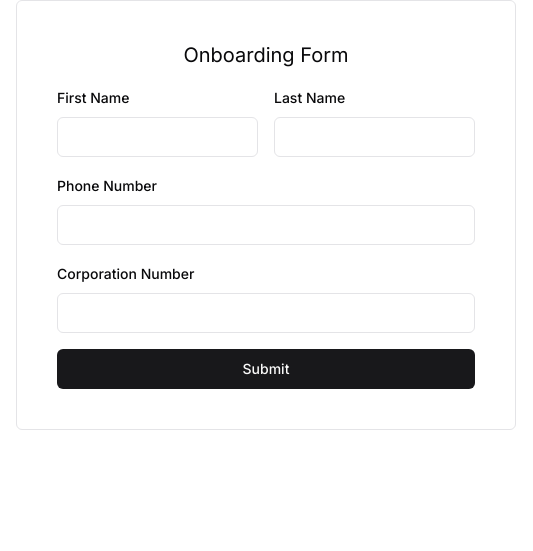
Test: OnboardingForm › does not submit the form if there are not input data
Click the button "Submit" at (266, 369), box x1=57 y1=349 x2=475 y2=389
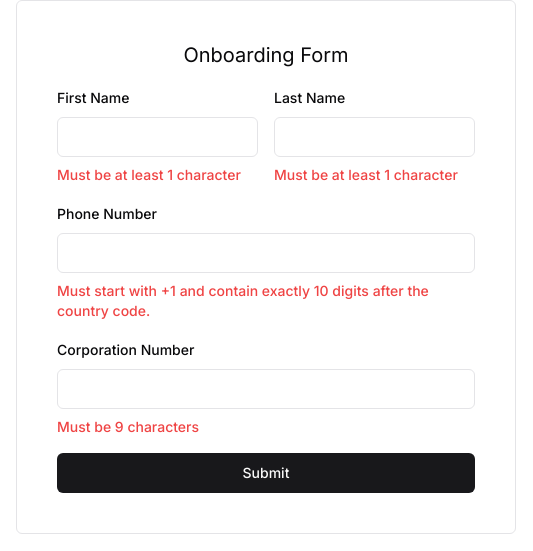
Expected: the text "Must be at least 1 character" is shown 2 times, x1=57 y1=165 x2=258 y2=185; x1=274 y1=165 x2=475 y2=185
Expected: the text "Must start with +1 and contain exactly 10 digits" is shown, x1=57 y1=282 x2=429 y2=319
Expected: the text "Must be 9 characters" is shown, x1=57 y1=418 x2=199 y2=435
